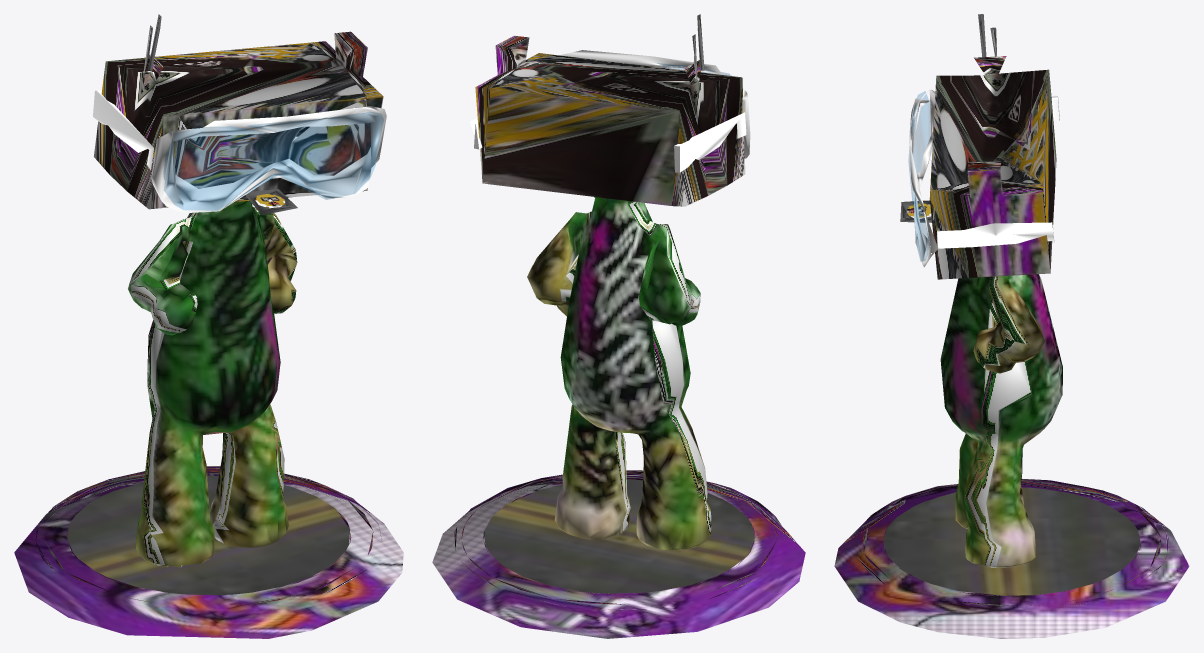
3 views of the same model, side by side, from view 1: azimuth 30°, elevation 25°; view 2: azimuth 150°, elevation 25°; view 3: azimuth 270°, elevation 25° (orthographic). The views are drawn at different scales.
Bounding box in the file's own units: 1.44 × 2.34 × 1.45.
Materials: 11 (5 with a texture image).
